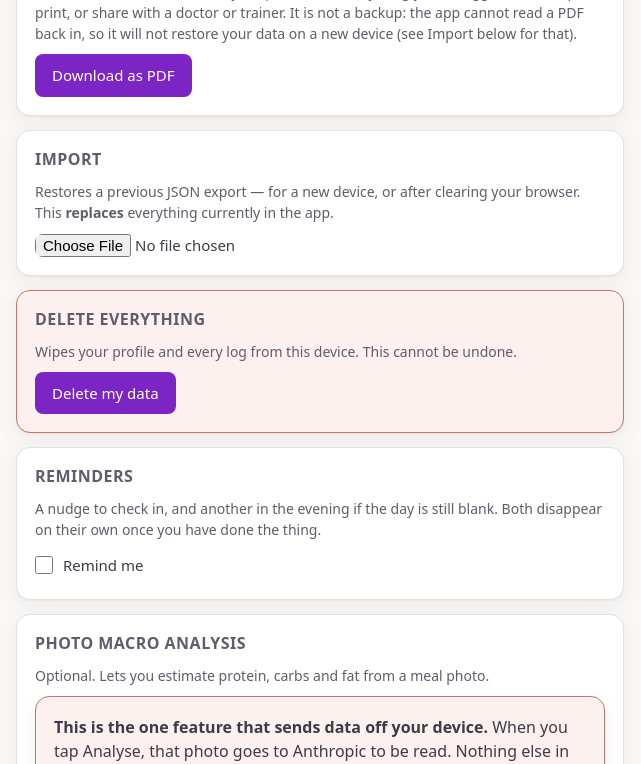
Test case: Settings — deleting everything › does not delete on the first click
The image size is (641, 764).
(page scrolled)
Click the button "Delete my data" at (105, 393), box [35, 372, 176, 414]
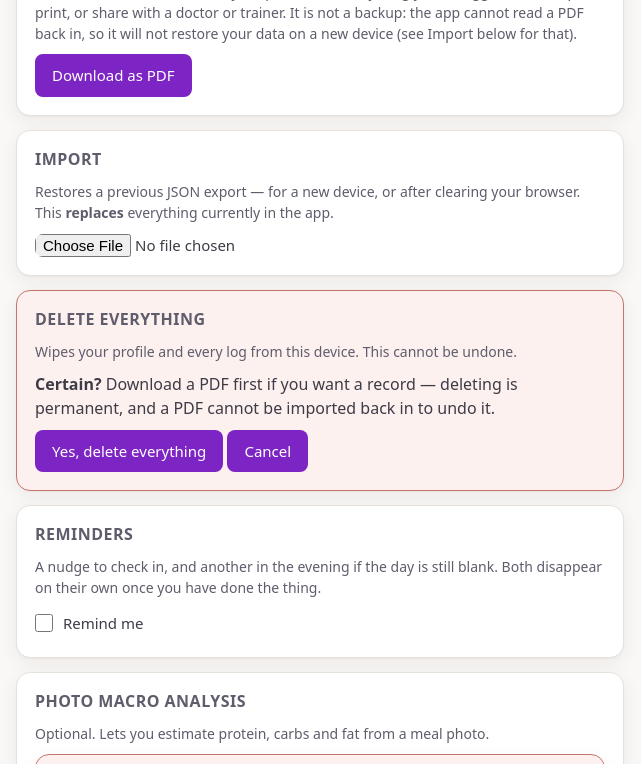
Check: the button "Yes, delete everything" is shown, box [35, 430, 223, 472]
